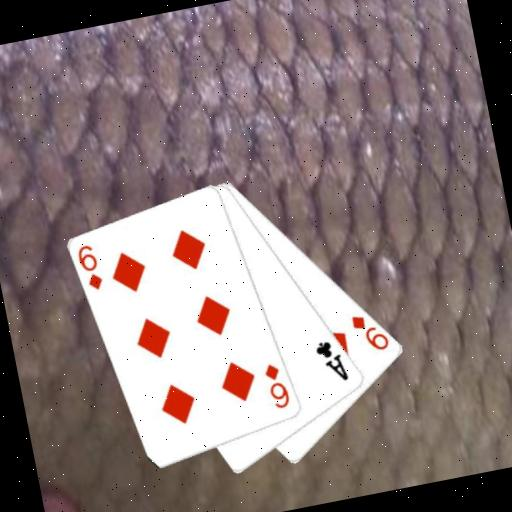6D: (260, 359, 293, 413), (73, 240, 106, 294)
9D: (348, 307, 393, 357)
AC: (311, 335, 351, 388)
